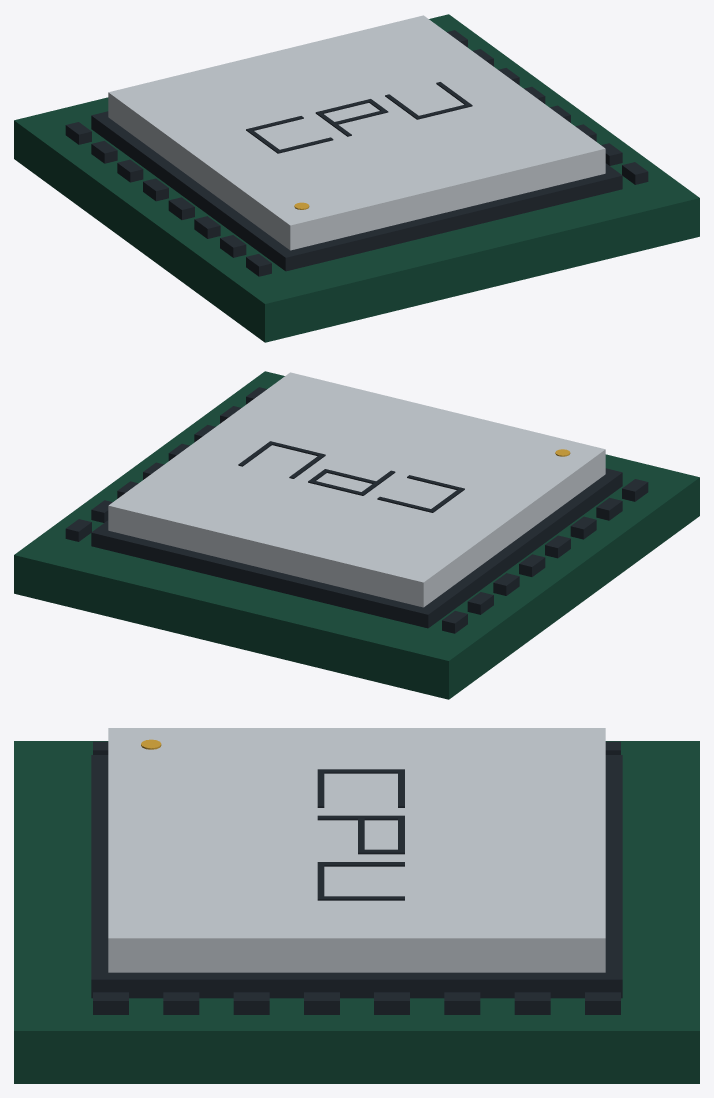
File: cpu.glb
3 views of the same model, one above another, from view 1: azimuth 30°, elevation 25°; view 2: azimuth 150°, elevation 25°; view 3: azimuth 270°, elevation 25° (orthographic). The views are drawn at different scales.
Visible parts, largest first — view 1: CPU_metal, CPU_board, CPU_dark; view 2: CPU_metal, CPU_board, CPU_dark; view 3: CPU_metal, CPU_board, CPU_dark.
Boxes of the visible parts, x1,y1,x2,y2 form: CPU_metal: [108, 15, 605, 250]; CPU_board: [14, 14, 699, 342]; CPU_dark: [65, 30, 648, 276]; CPU_metal: [108, 372, 605, 607]; CPU_board: [14, 371, 699, 699]; CPU_dark: [65, 387, 648, 633]; CPU_metal: [108, 728, 605, 972]; CPU_board: [14, 741, 699, 1083]; CPU_dark: [91, 741, 622, 1014].
Bounding box in the file's own units: 0.4 × 0.0775 × 0.4.
